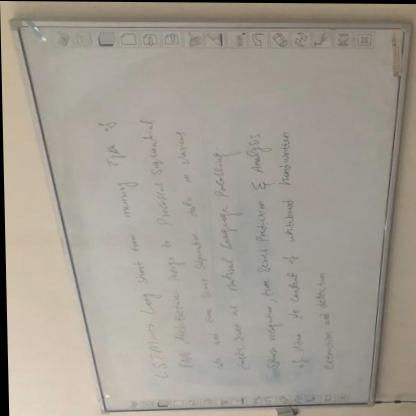Handwritten text: (76, 102, 173, 391), (132, 97, 196, 375), (167, 116, 226, 378), (203, 137, 256, 378), (240, 119, 285, 383), (269, 119, 315, 375), (312, 262, 341, 371)
Whiteboard: (6, 15, 407, 416)
